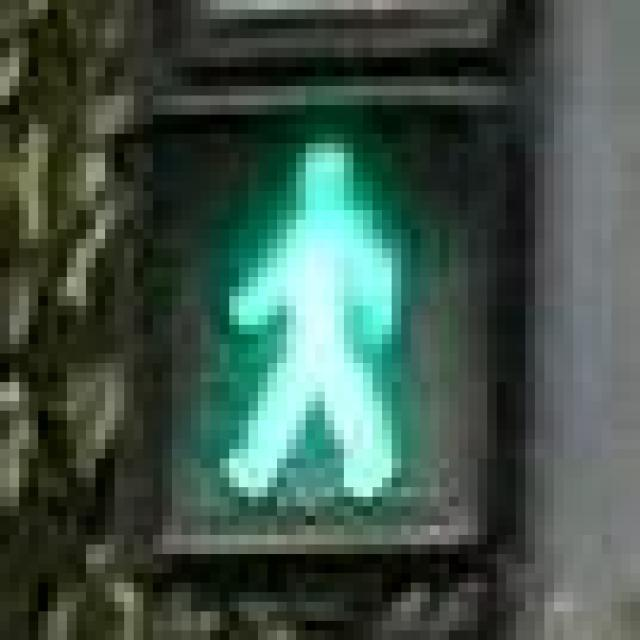geen-crossing: (153, 96, 468, 526)
